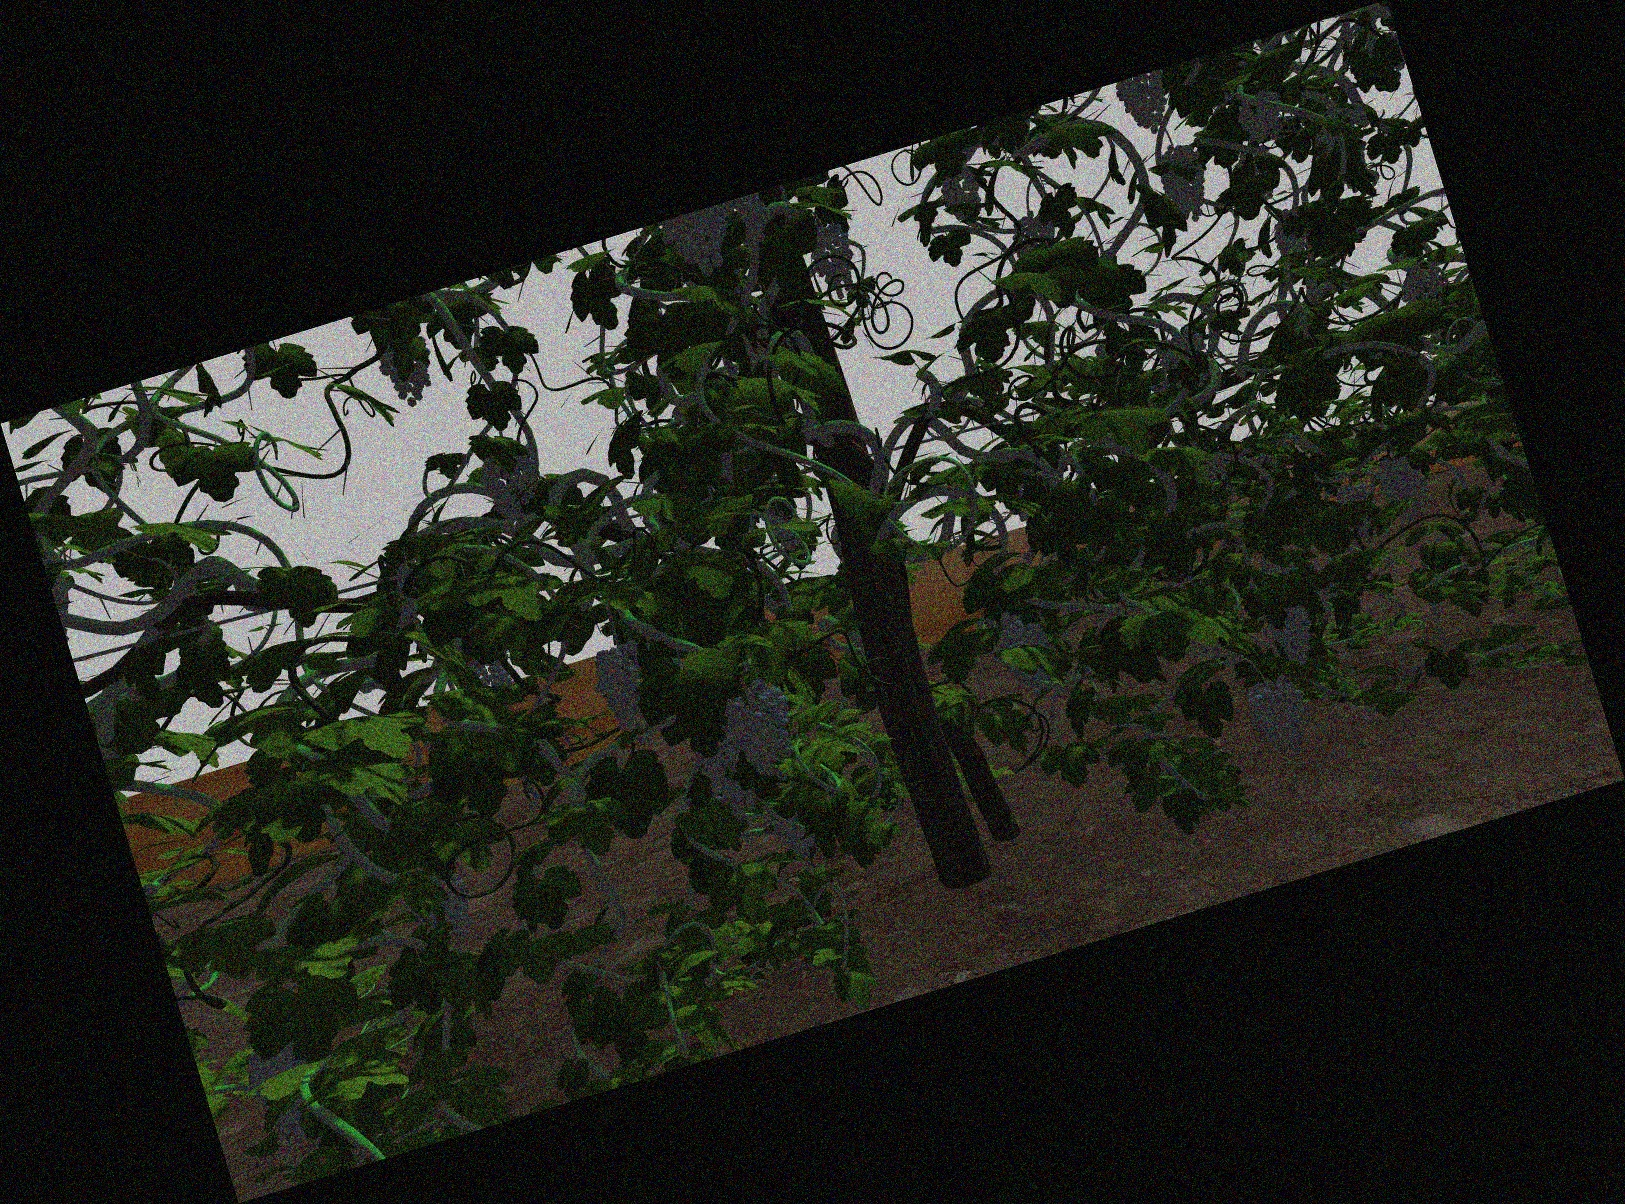grape: (597, 642, 654, 745), (735, 684, 793, 773), (998, 613, 1056, 699), (1249, 680, 1311, 759), (479, 441, 537, 519), (668, 218, 737, 277), (1158, 145, 1209, 224), (704, 735, 749, 820), (381, 340, 436, 403), (1381, 455, 1429, 524), (814, 223, 856, 293), (1123, 78, 1172, 135), (1270, 602, 1316, 661), (943, 166, 983, 225), (1237, 94, 1286, 139)
